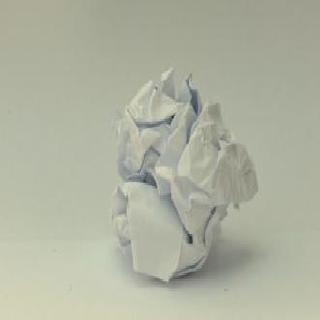8/可回收垃圾/纸: (109, 65, 259, 285)
